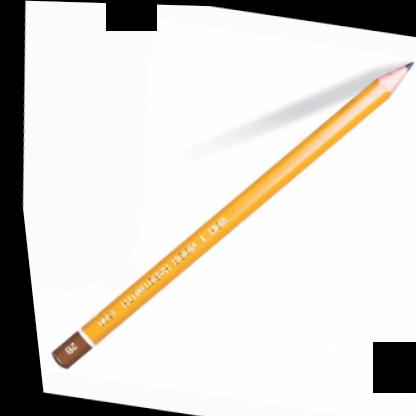pencil: (39, 56, 415, 372)
